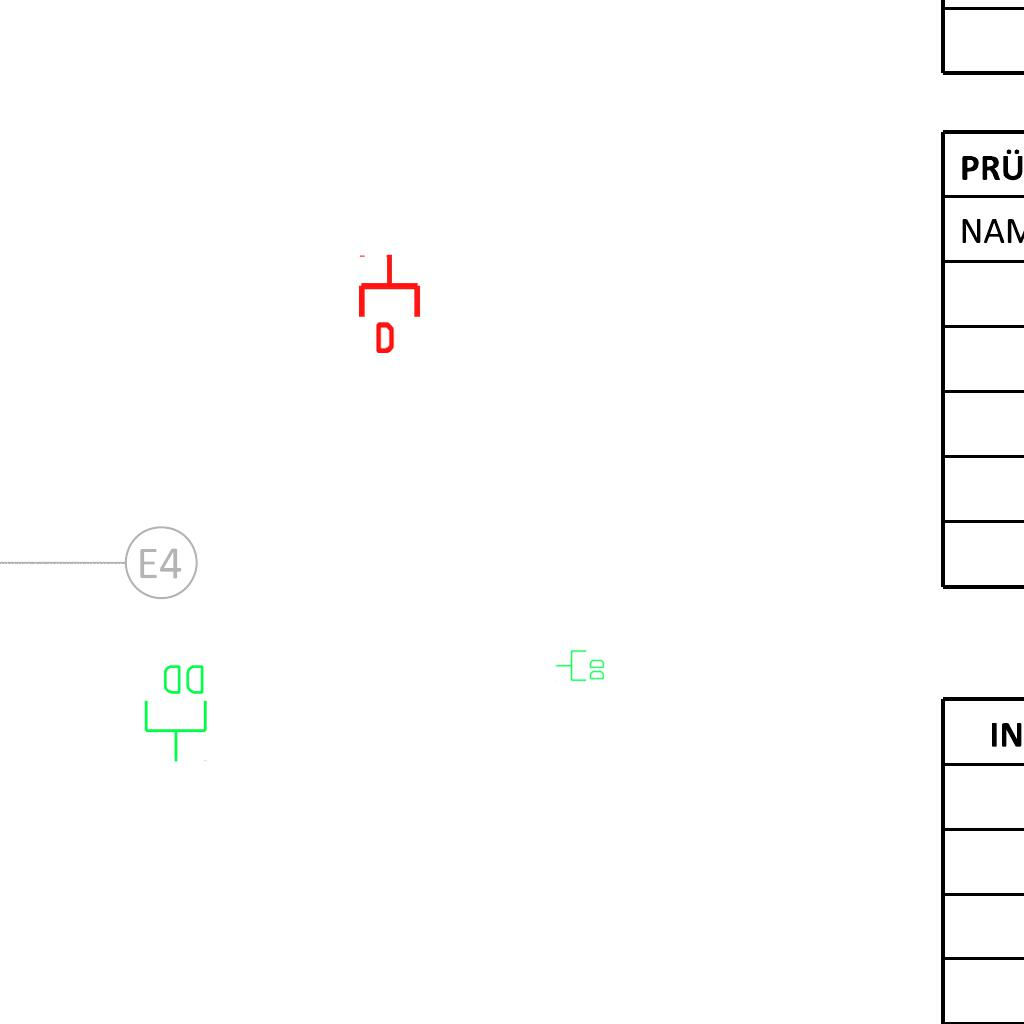Datenanschluss_einfach: (355, 253, 424, 353)
Datenanschluss_zweifach: (142, 661, 211, 764), (555, 649, 606, 683)
